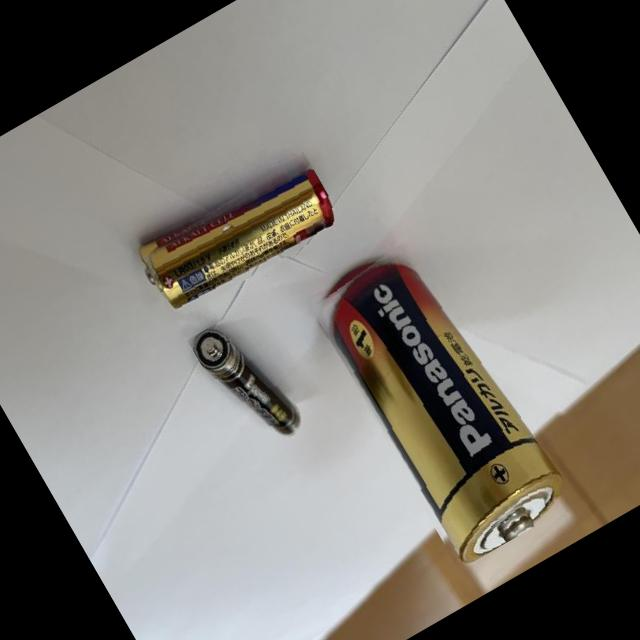Hazard: (300, 232, 571, 570), (131, 152, 343, 322), (186, 308, 307, 456)
